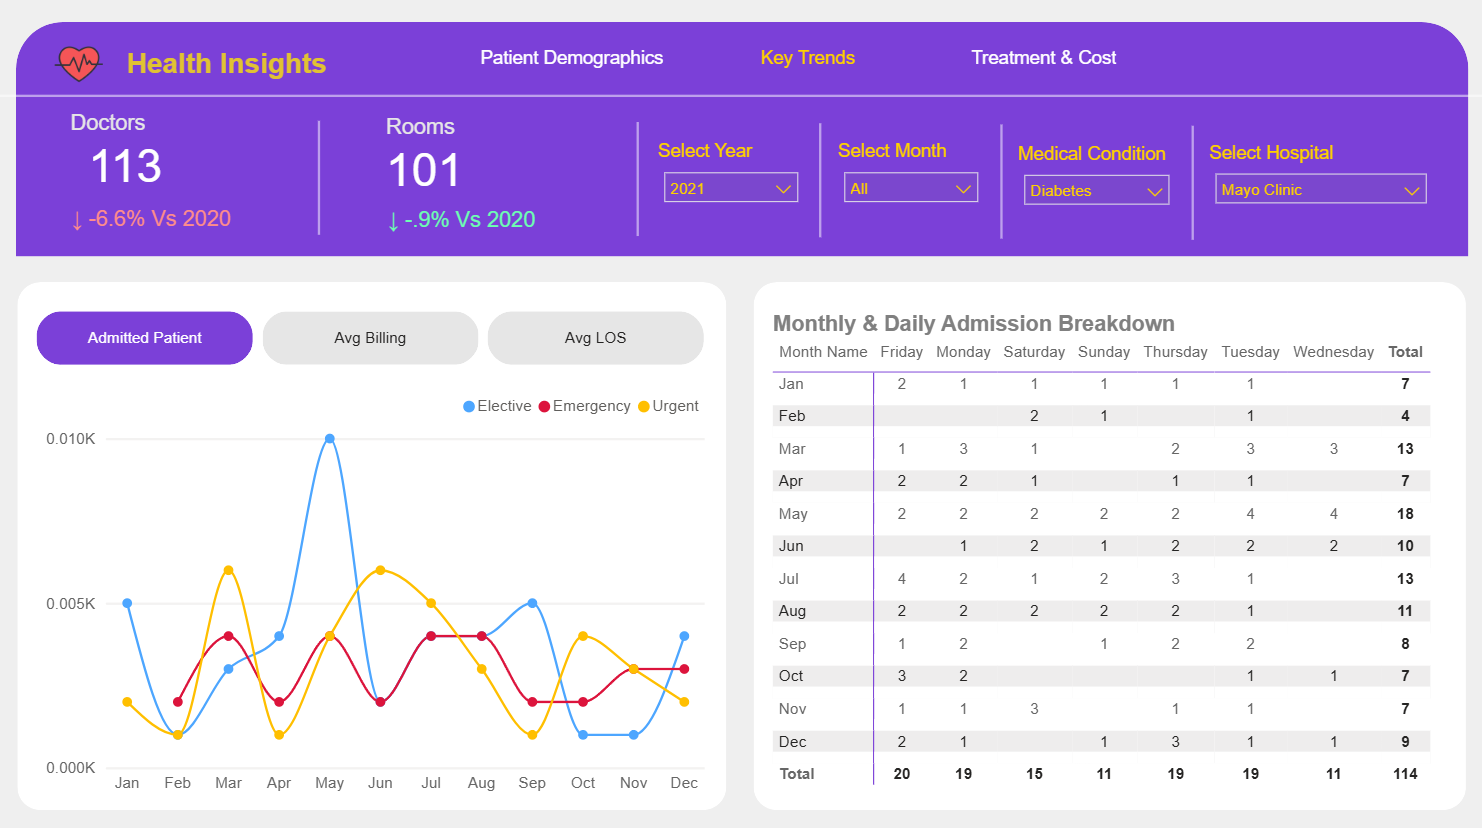

The dashboard page shown, as its layout file describes it:
{"tool":"powerbi","page":{"name":"Key Trends","canvas":[1280,720],"ordinal":1},"visuals":[{"type":"shape","box":[17.3,21.6,1249.4,202],"z":0},{"type":"textbox","box":[107.8,37.8,201.8,40.4],"z":0,"group":"g2"},{"type":"shape","box":[26.3,91.8,239.5,121.2],"z":0,"group":"g5"},{"type":"group","id":"g1","title":"Group 4","box":[294.8,101,240,110.8],"z":0,"group":"g3"},{"type":"shape","box":[294.8,109.2,240,102.7],"z":0,"group":"g1"},{"type":"shape","box":[18.6,245.4,610,454.5],"z":0,"group":"g4"},{"type":"image","box":[38,31.7,67.3,51.4],"z":1000,"group":"g2"},{"type":"shape","box":[0,72.1,1279.7,26],"z":1000},{"type":"multiRowCard","title":"Rooms","fields":{"Values":["_Measure.Rooms"]},"box":[335.8,101,171.6,76.5],"z":1000,"group":"g1"},{"type":"card","title":"Admitted Patients","fields":{"Values":["_Measure.Doctors"]},"box":[30.3,118.3,167.4,50.5],"z":1000,"group":"g5"},{"type":"group","id":"g2","title":"Group 1","box":[38,31.7,271.5,51.4],"z":2000},{"type":"multiRowCard","fields":{"Values":["_Measure.Doctors YoY"]},"box":[60.6,175.8,186.1,31.7],"z":2000,"group":"g5"},{"type":"multiRowCard","fields":{"Values":["_Measure.Avg Patient Age YoY"]},"box":[332.9,176.1,187.6,31.8],"z":2000,"group":"g1"},{"type":"textbox","box":[59.2,92.4,171.7,33],"z":3000,"group":"g5"},{"type":"slicer","title":"Select Year","fields":{"Values":["DimDate.Year"]},"box":[564.1,120.6,135.6,60.6],"z":3000},{"type":"slicer","title":"Select Month","fields":{"Values":["DimDate.Month Name"]},"box":[719.2,120.6,135.6,60.6],"z":4000},{"type":"slicer","title":"Medical Condition","fields":{"Values":["DimMedicalCondition.Medical Condition"]},"box":[874.3,122.3,145.5,59.9],"z":5000},{"type":"group","id":"g3","title":"Group 2","box":[294.8,101,240.9,111.1],"z":6000},{"type":"shape","box":[268.4,106.8,18,98.1],"z":7000},{"type":"shape","box":[542.5,107.8,18,98.1],"z":8000},{"type":"shape","box":[699.7,108.9,18,98.1],"z":9000},{"type":"shape","box":[855.6,110,18,98.1],"z":10000},{"type":"shape","box":[652.1,245.3,613,454.5],"z":11000},{"type":"group","id":"g4","title":"Group 3","box":[18.6,245.4,610,454.5],"z":12000},{"type":"slicer","title":"Select Hospital","fields":{"Values":["HealthStatData.Hospital"]},"box":[1038.8,121.6,202,60.6],"z":13000},{"type":"shape","box":[1020,111.1,18,98.1],"z":14000},{"type":"group","id":"g5","title":"Group 5","box":[26.3,91.8,239.5,121.2],"z":15000},{"type":"lineChart","fields":{"Y":["_Measure.Admitted Patient"],"Category":["DimDate.Month Name"],"Series":["HealthStatData.Admission Type"]},"box":[37.5,331.8,577.1,360.7],"z":16000},{"type":"advancedSlicerVisual","fields":{"Values":["2nd Parameter.Parameter"]},"box":[30.3,265.5,584.3,56.3],"z":17000},{"type":"pivotTable","title":"Monthly & Daily Admission Breakdown","fields":{"Columns":["DimDate.Day Name"],"Values":["_Measure.Admitted Patient"],"Rows":["DimDate.Month Name"]},"box":[663.7,265.5,591.5,427.1],"z":18000},{"type":"pageNavigator","box":[398.6,30.6,600.4,44],"z":19000}]}

Visuals, with their boxes in screenshot pixels (x1, y1, x2, y2), scaled from the page's 1280x720 canvas onto the 1482x828 screenshot:
shape: 20/25/1467/257
textbox: 125/43/358/90
shape: 30/106/308/245
"Group 4" group: 341/116/619/244
shape: 341/126/619/244
shape: 22/282/728/805
image: 44/36/122/96
shape: 0/83/1481/113
"Rooms" multiRowCard: 389/116/587/204
"Admitted Patients" card: 35/136/229/194
"Group 1" group: 44/36/358/96
multiRowCard - _Measure.Doctors YoY: 70/202/286/239
multiRowCard - _Measure.Avg Patient Age YoY: 385/203/603/239
textbox: 69/106/267/144
"Select Year" slicer: 653/139/810/208
"Select Month" slicer: 833/139/990/208
"Medical Condition" slicer: 1012/141/1181/210
"Group 2" group: 341/116/620/244
shape: 311/123/332/236
shape: 628/124/649/237
shape: 810/125/831/238
shape: 991/126/1011/239
shape: 755/282/1465/805
"Group 3" group: 22/282/728/805
"Select Hospital" slicer: 1203/140/1437/210
shape: 1181/128/1202/241
"Group 5" group: 30/106/308/245
lineChart - _Measure.Admitted Patient x DimDate.Month Name: 43/382/712/796
advancedSlicerVisual - 2nd Parameter.Parameter: 35/305/712/370
"Monthly & Daily Admission Breakdown" pivotTable: 768/305/1453/796
pageNavigator: 462/35/1157/86
